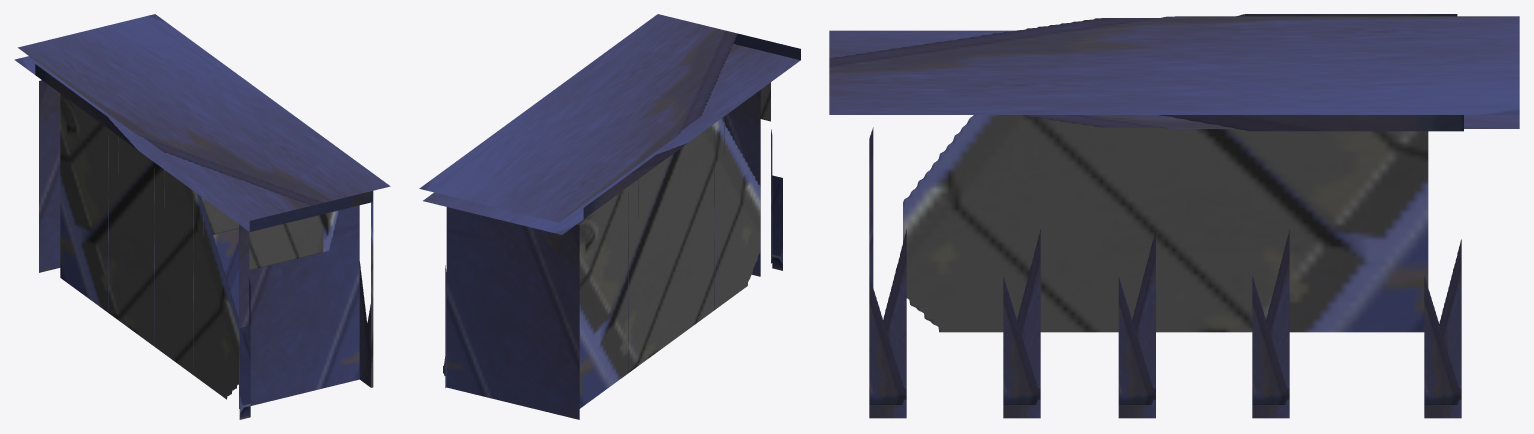
The picture shows the model from 3 angles, left to right: view 1: azimuth 30°, elevation 25°; view 2: azimuth 150°, elevation 25°; view 3: azimuth 270°, elevation 25°; orthographic projection. The views are drawn at different scales.
Size of the model in its own units: 0.6398 by 0.91 by 1.85.
